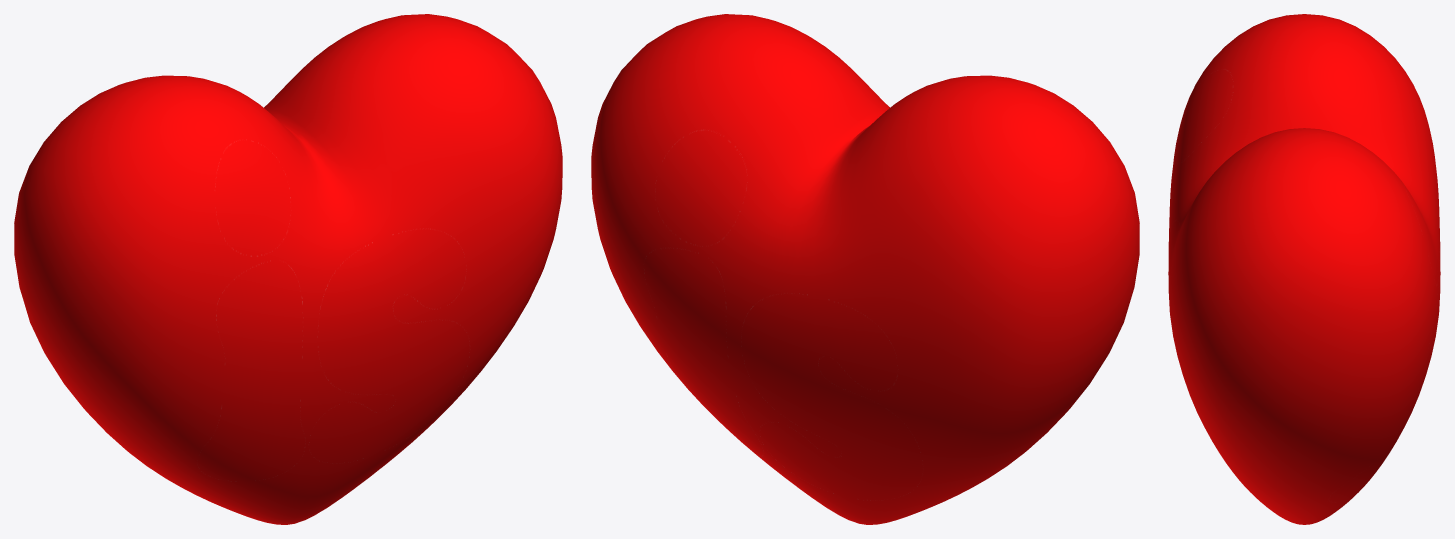
Rendered from emnkho-10.gltf.
3 views of the same model, side by side, from view 1: azimuth 30°, elevation 25°; view 2: azimuth 150°, elevation 25°; view 3: azimuth 270°, elevation 25° (orthographic). The views are drawn at different scales.
Visible parts, largest first — view 1: BASE_HEART_1; view 2: BASE_HEART_1; view 3: BASE_HEART_1.
Boxes of the visible parts, bbox=[...] form: BASE_HEART_1: bbox=[14, 14, 562, 524]; BASE_HEART_1: bbox=[591, 14, 1139, 524]; BASE_HEART_1: bbox=[1168, 14, 1440, 524].
Bounding box in the file's own units: 1.73 × 1.51 × 0.8513.
1 material, 1 textured.
